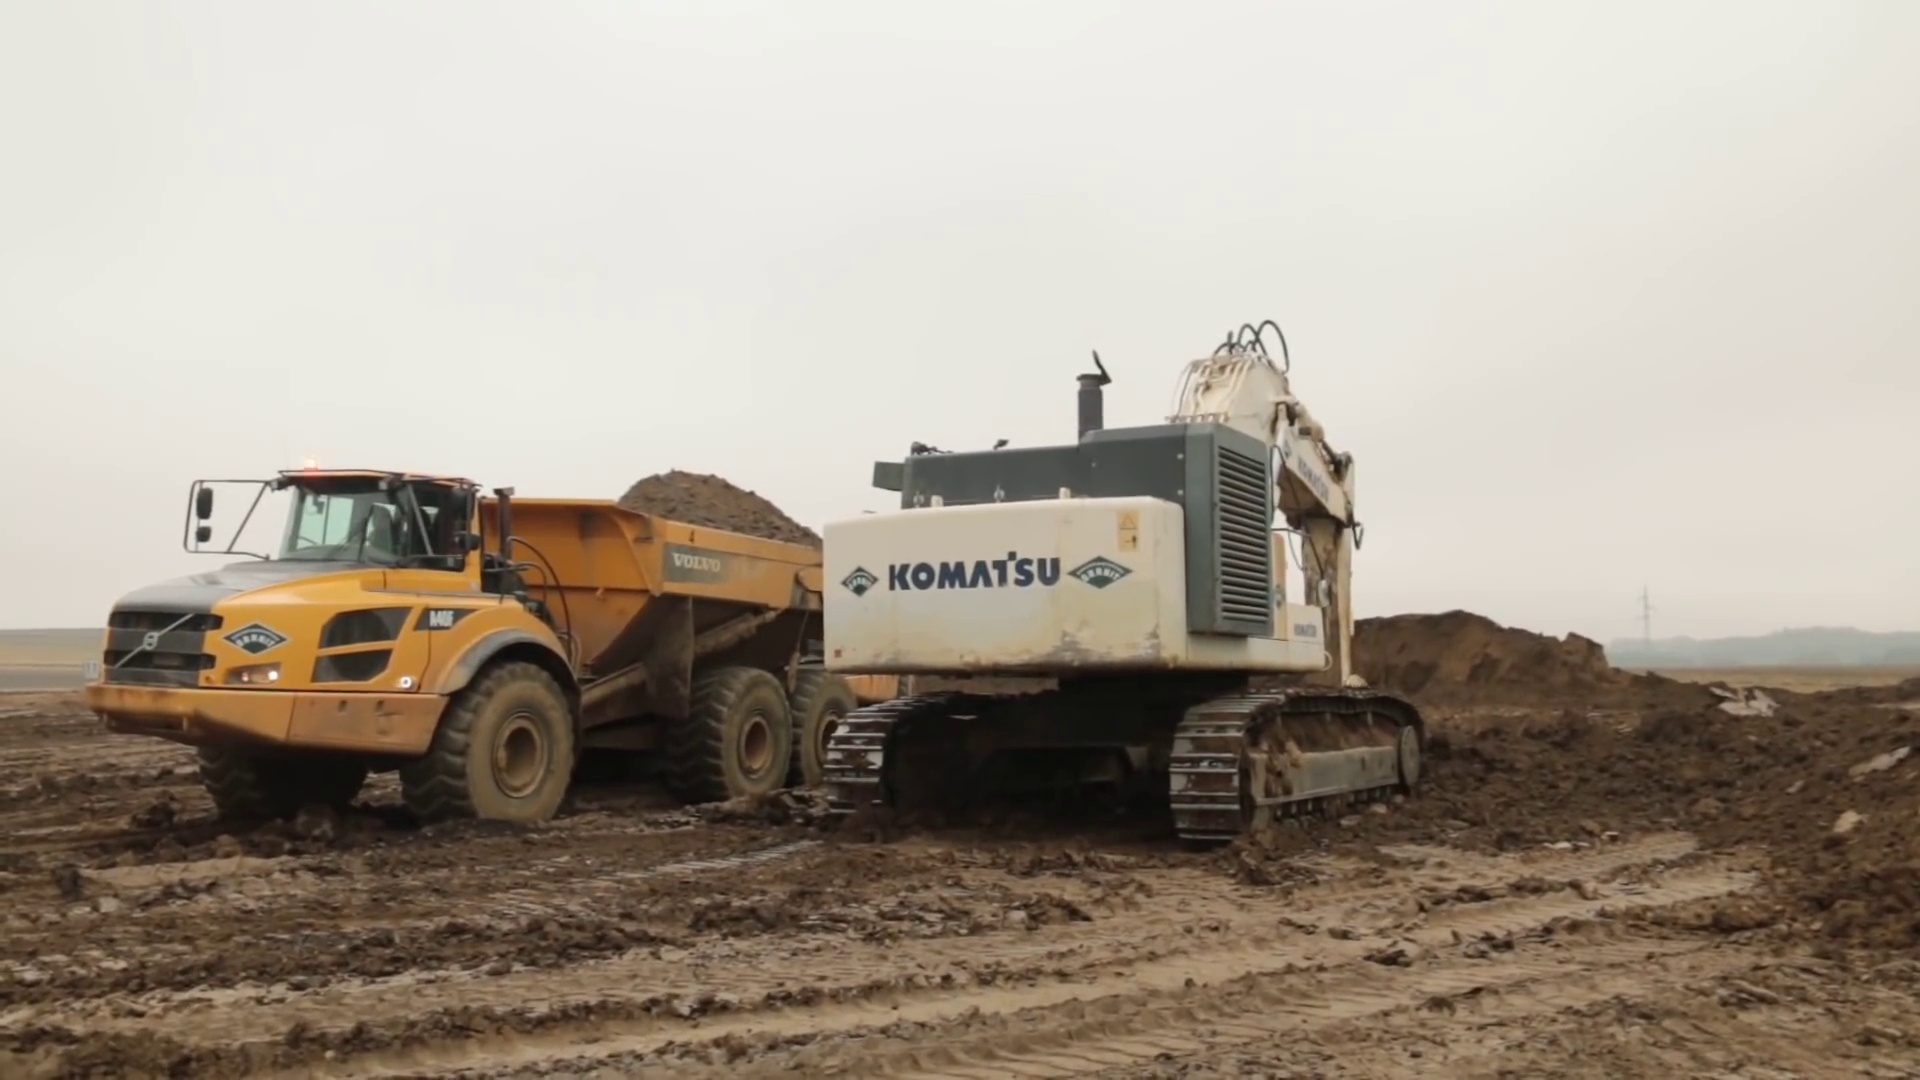dumper: (88, 438, 861, 829)
excavator: (822, 322, 1433, 860)
